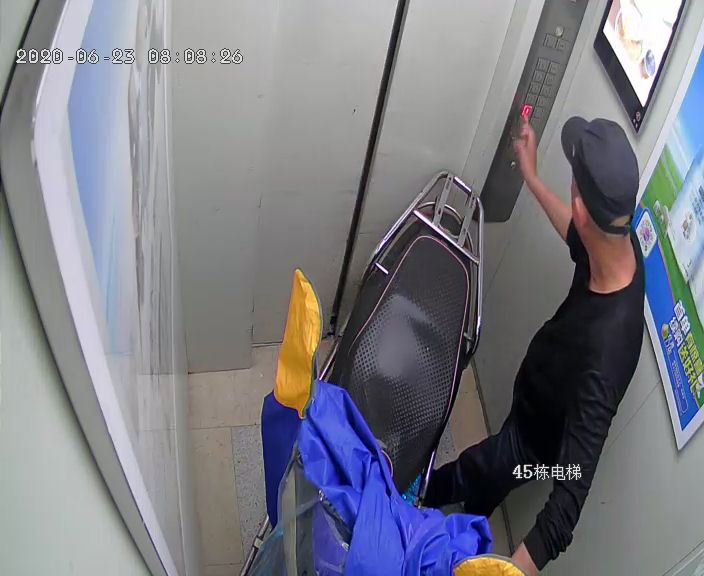Electric-bicycle: (261, 174, 502, 576)
